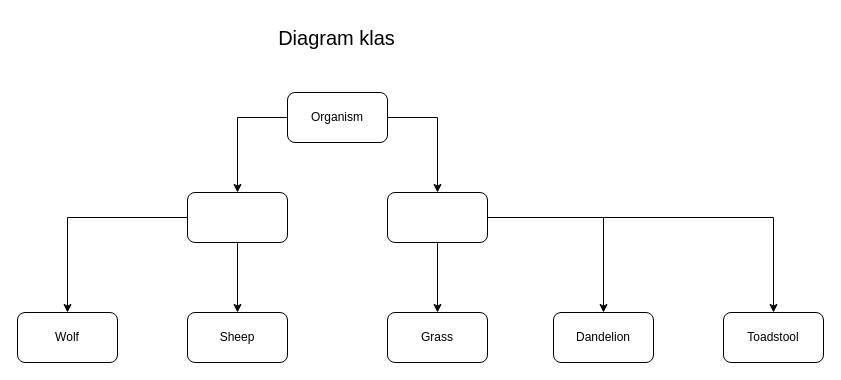
This 841x380 diagram has some shape labels left out. The centre of each missing label's shape, as x and y in pixels:
"Animal" belongs at point (237, 217).
"Plant" belongs at point (437, 217).
